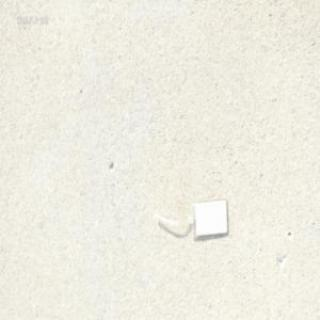LuggageTagtrack_idkeyframe: (152, 195, 228, 239)
